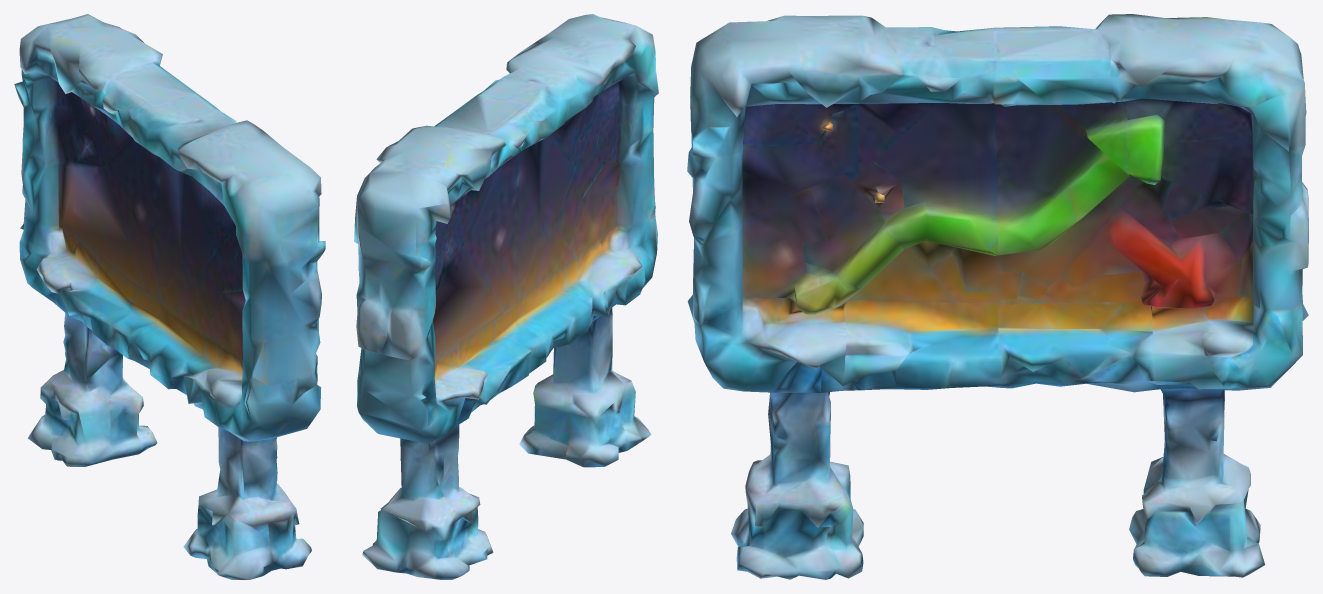
File: pv-odds-board.glb
3 renders of one model, left to right at view 1: azimuth 30°, elevation 25°; view 2: azimuth 150°, elevation 25°; view 3: azimuth 270°, elevation 25°, orthographic. The views are drawn at different scales.
Parts seen in each view (by area): view 1: tripo_node_49c2b090-07c7-44c5-929e-7bbeed6d2db5; view 2: tripo_node_49c2b090-07c7-44c5-929e-7bbeed6d2db5; view 3: tripo_node_49c2b090-07c7-44c5-929e-7bbeed6d2db5.
Boxes of the visible parts, bbox=[...] form: tripo_node_49c2b090-07c7-44c5-929e-7bbeed6d2db5: bbox=[14, 14, 325, 579]; tripo_node_49c2b090-07c7-44c5-929e-7bbeed6d2db5: bbox=[354, 14, 658, 579]; tripo_node_49c2b090-07c7-44c5-929e-7bbeed6d2db5: bbox=[687, 14, 1308, 579].
Bounding box in the file's own units: 0.2298 × 0.9078 × 0.9789.
Materials: 1 (1 with a texture image).
